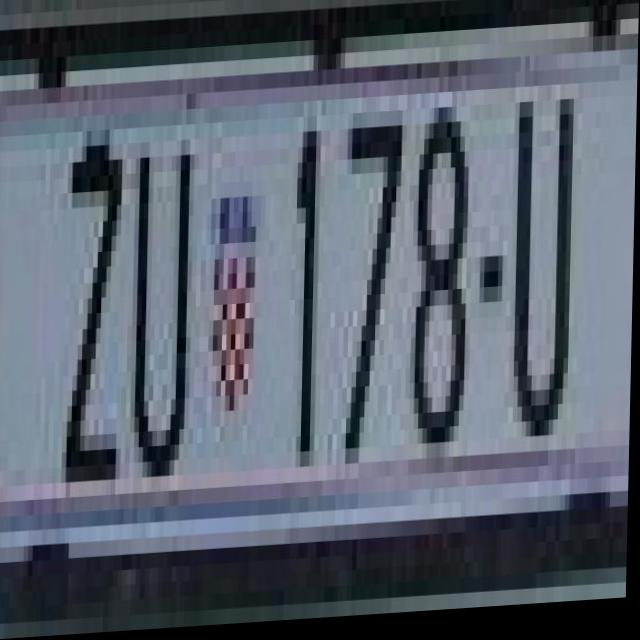1: (279, 135, 322, 503)
7: (334, 101, 394, 485)
8: (397, 81, 476, 466)
U: (505, 46, 580, 461), (131, 96, 197, 480)
Z: (58, 99, 134, 515)
